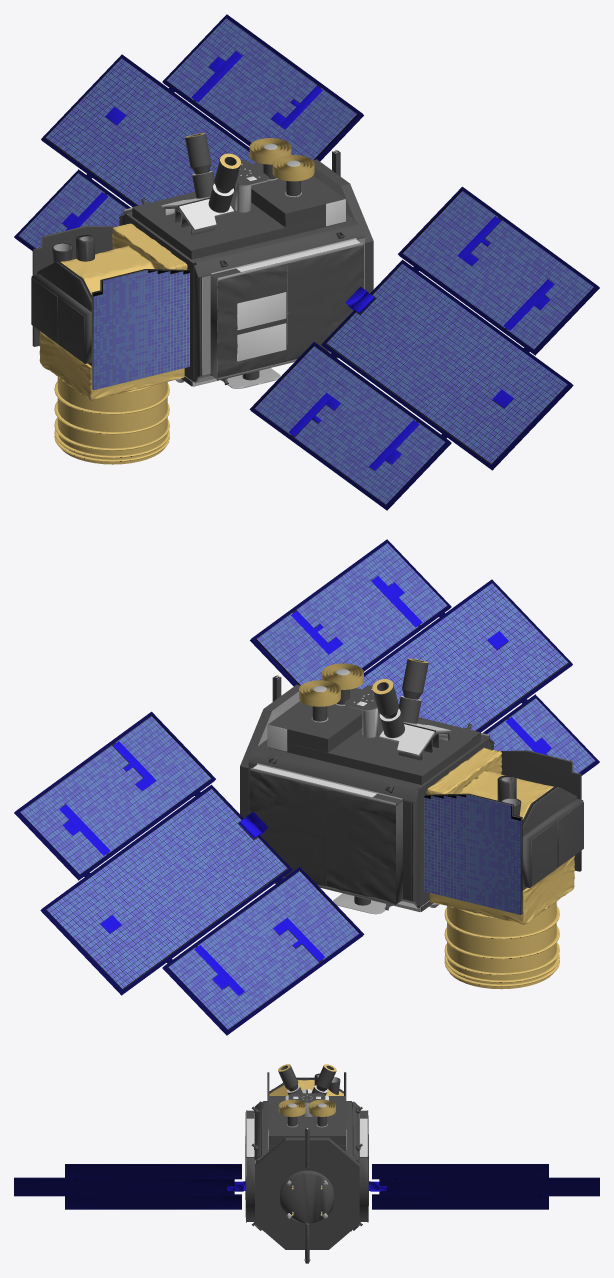
File: ICESat.glb
The picture shows the model from 3 angles, top to bottom: view 1: azimuth 30°, elevation 25°; view 2: azimuth 150°, elevation 25°; view 3: azimuth 270°, elevation 25°; orthographic projection. The views are drawn at different scales.
Visible parts, largest first — view 1: Mesh .008, Mesh .004, Mesh (×2), Mesh .007, Mesh .001, Mesh .006, Mesh .003, Mesh .005; view 2: Mesh .008, Mesh .004, Mesh (×2), Mesh .007, Mesh .006, Mesh .001, Mesh .003, Mesh .005; view 3: Mesh .008, Mesh .004, Mesh, Mesh .001, Mesh .005, Mesh .003.
Part boxes in pixels (<box>): Mesh .008: <box>14,14,599,510</box>; Mesh .004: <box>31,133,373,389</box>; Mesh (×2): <box>54,133,364,464</box>; Mesh .007: <box>93,270,189,390</box>; Mesh .001: <box>162,171,360,386</box>; Mesh .006: <box>39,331,184,400</box>; Mesh .003: <box>161,143,364,388</box>; Mesh .005: <box>60,245,154,294</box>; Mesh .008: <box>14,539,599,1035</box>; Mesh .004: <box>240,659,583,914</box>; Mesh (×2): <box>250,658,559,989</box>; Mesh .007: <box>424,795,520,914</box>; Mesh .006: <box>429,855,574,924</box>; Mesh .001: <box>253,696,451,911</box>; Mesh .003: <box>258,669,451,914</box>; Mesh .005: <box>459,770,553,819</box>; Mesh .008: <box>14,1164,599,1209</box>; Mesh .004: <box>245,1065,368,1263</box>; Mesh: <box>278,1064,336,1215</box>; Mesh .001: <box>245,1085,367,1177</box>; Mesh .005: <box>269,1080,343,1095</box>; Mesh .003: <box>286,1102,327,1260</box>.
Bounding box in the file's own units: 0.8068 × 0.5955 × 1.76.
13 materials, 2 textured.
